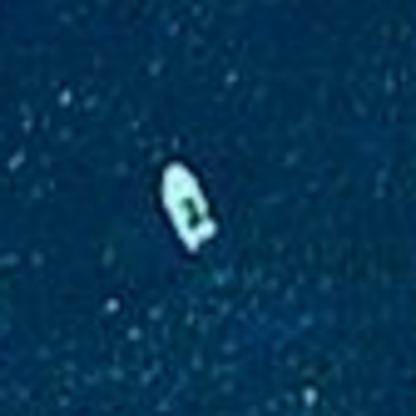ship: (146, 149, 233, 260)
